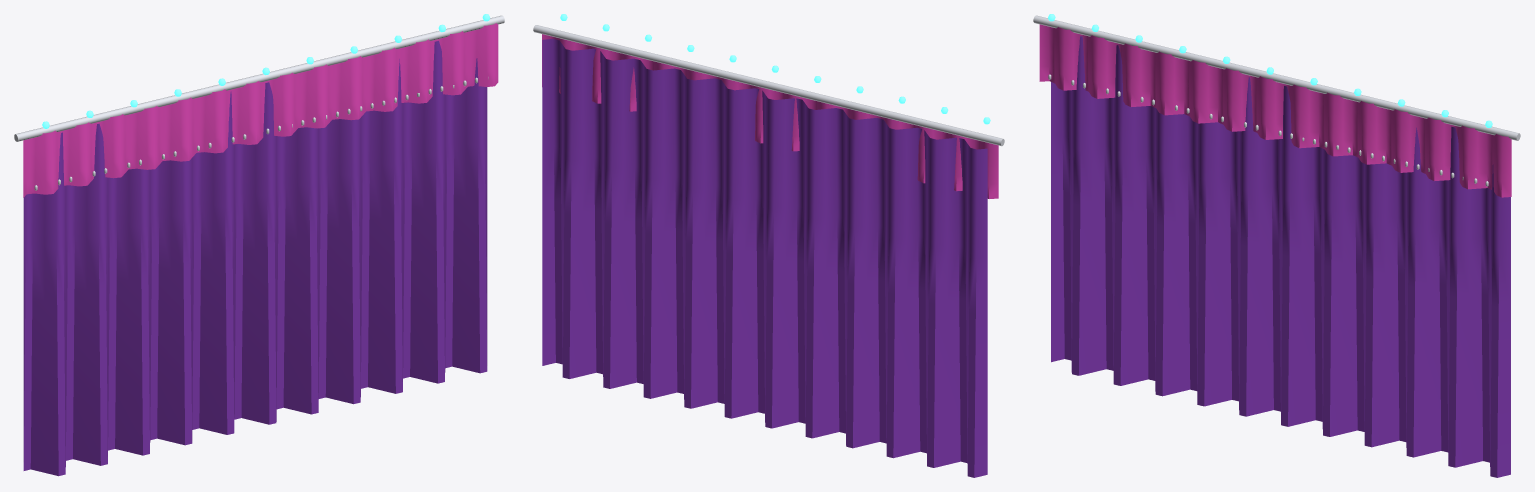
File: stage_curtain_velvet.glb
3 renders of one model, left to right at view 1: azimuth 30°, elevation 25°; view 2: azimuth 150°, elevation 25°; view 3: azimuth 330°, elevation 25°, orthographic. The views are drawn at different scales.
Visible parts, largest first — view 1: stage_curtain_velvet; view 2: stage_curtain_velvet; view 3: stage_curtain_velvet.
Boxes of the visible parts, x1=… form: stage_curtain_velvet: x1=14, y1=14, x2=504, y2=476; stage_curtain_velvet: x1=533, y1=14, x2=1004, y2=477; stage_curtain_velvet: x1=1033, y1=14, x2=1520, y2=477.
Size of the model in its own units: 4.2 by 2.98 by 0.2939.
